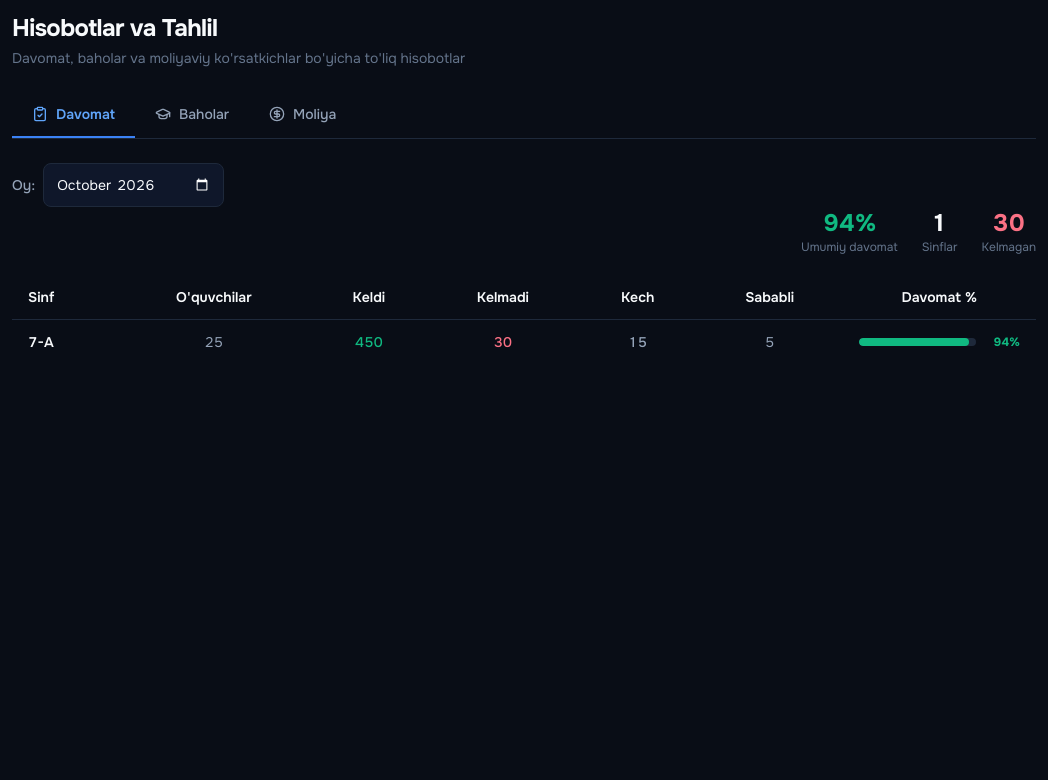
ReportsPage › switches to finance tab and shows revenue data
Step 1. Click the button "Moliya" → (303, 115), box [249, 92, 356, 138]
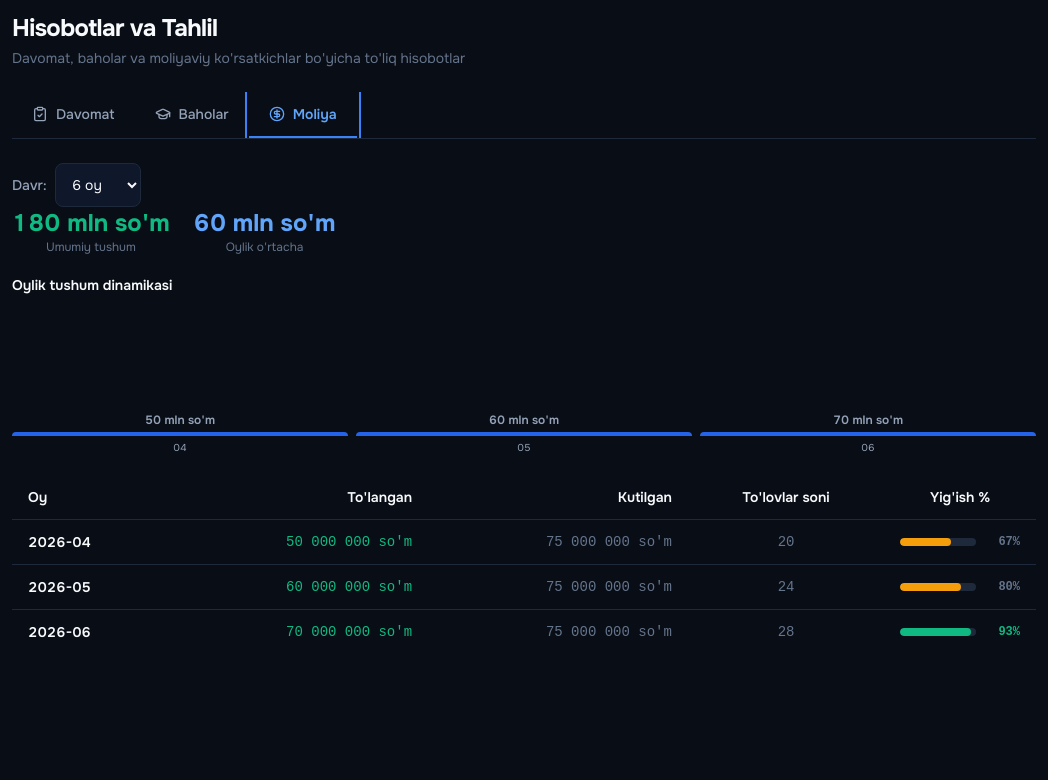
Result: the text "180 mln so'm" is shown at [12, 207, 170, 239]
Result: the text "2026-04" is shown at [12, 520, 168, 564]
Result: the text "2026-06" is shown at [12, 610, 168, 654]
